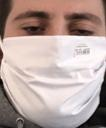with_mask: (1, 1, 106, 128)
